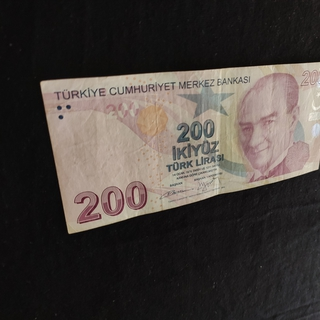200TLFront: (40, 60, 320, 234)
